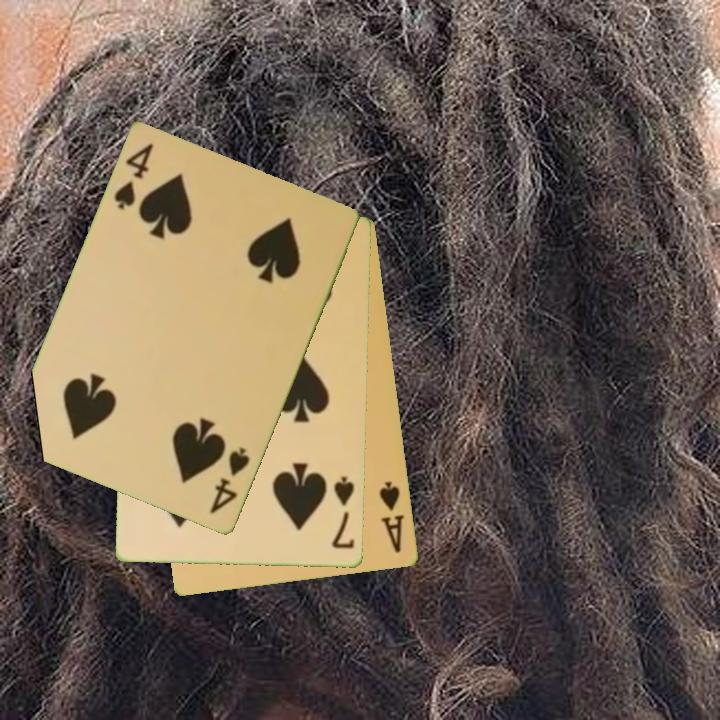4s: (206, 444, 253, 518), (110, 140, 157, 213)
7s: (329, 473, 358, 552)
As: (376, 478, 408, 556)
